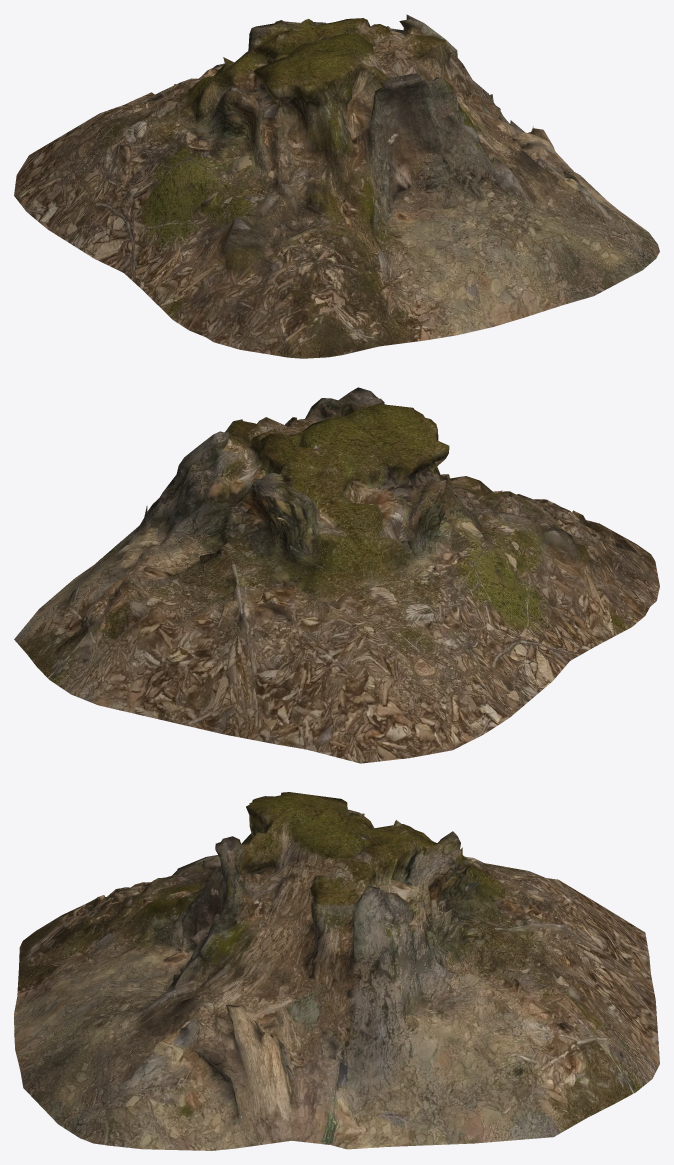
Rendered from tree_stump_01.glb.
3 renders of one model, top to bottom at view 1: azimuth 30°, elevation 25°; view 2: azimuth 150°, elevation 25°; view 3: azimuth 270°, elevation 25°, orthographic. The views are drawn at different scales.
Parts seen in each view (by area): view 1: tree_stump_01; view 2: tree_stump_01; view 3: tree_stump_01.
Boxes of the visible parts, <box> form: tree_stump_01: <box>14,14,659,358</box>; tree_stump_01: <box>14,387,659,763</box>; tree_stump_01: <box>14,792,659,1150</box>.
Bounding box in the file's own units: 1.43 × 0.5709 × 1.59.
1 material, 1 textured.
